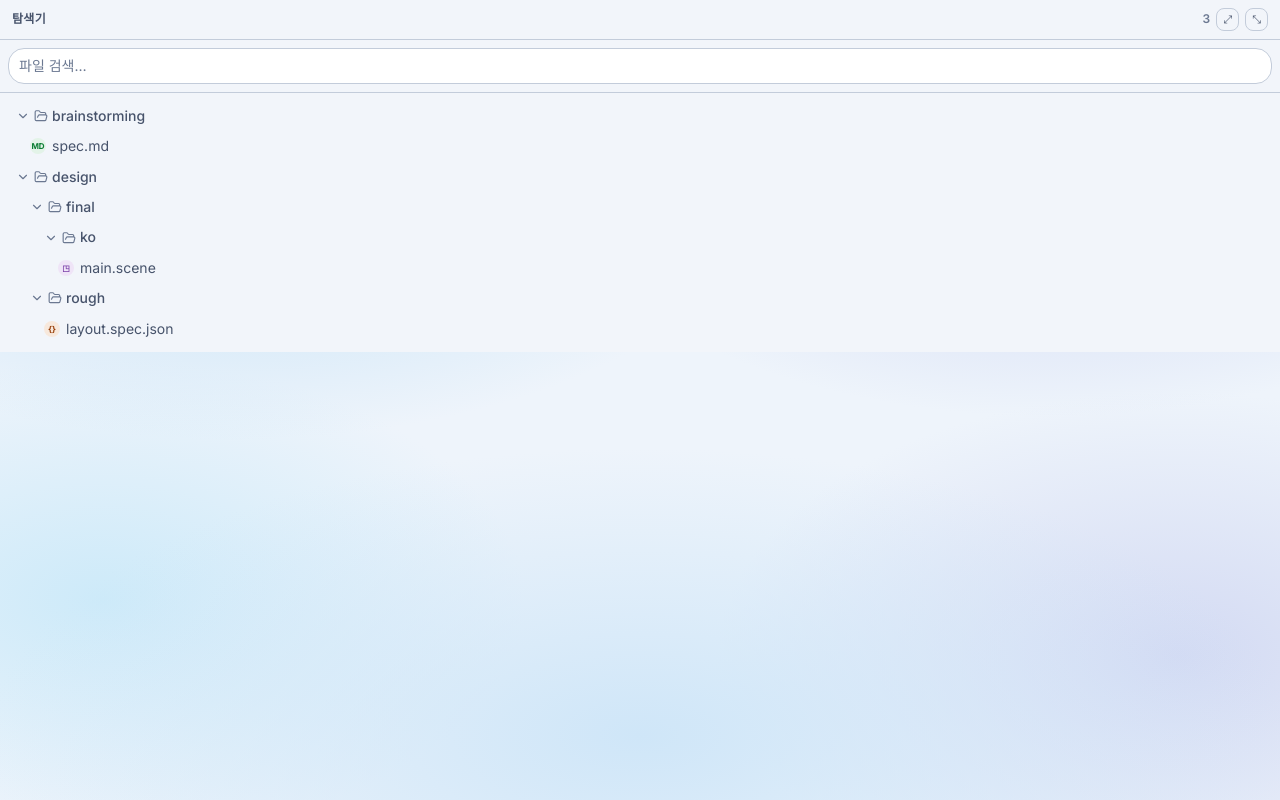
it: FileTree 전체 펼치기/접기 › 전체 접기 → 최상위만 남고 자식 숨김, 전체 펼치기 → 다시 노출
Expected: the list item with test id "file-spec.md" is shown, [8,131,1272,162]
Click the button named "전체 접기": (1257, 19) [1245,8,1268,30]
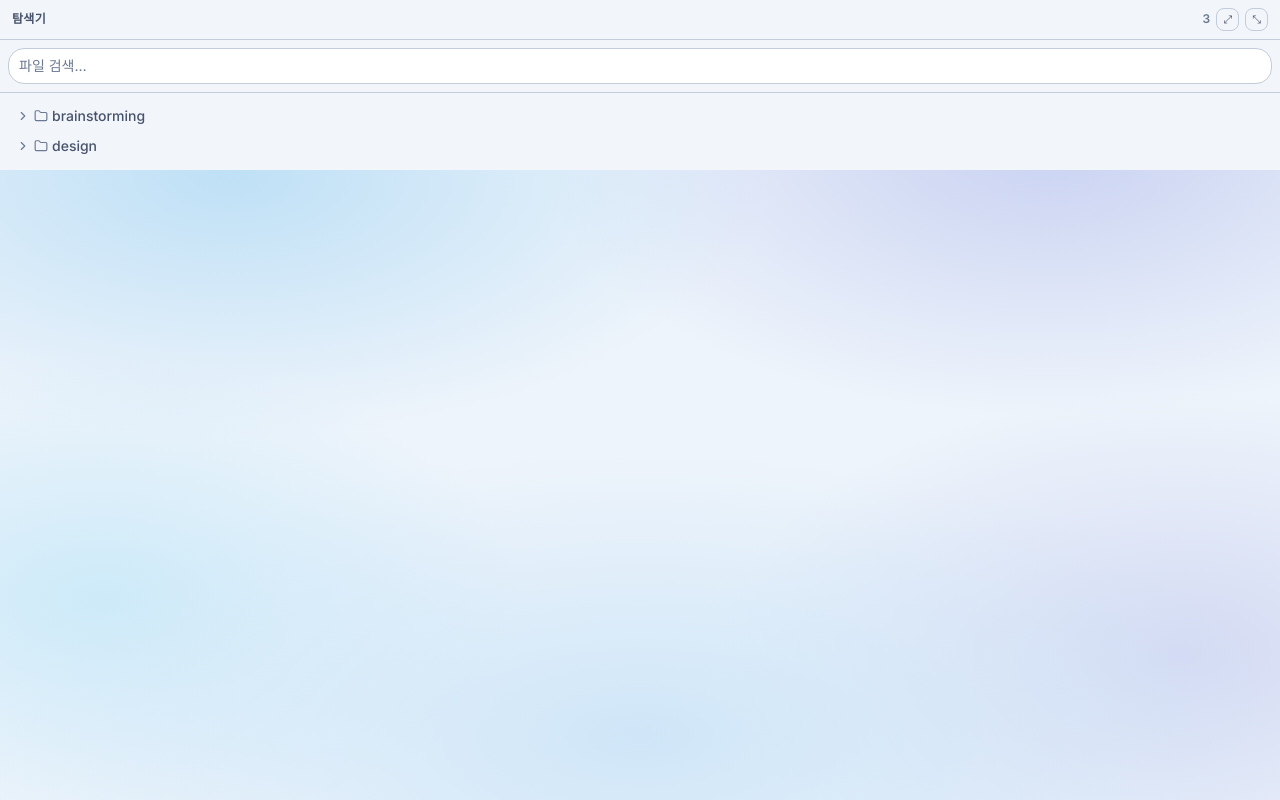
Click the button named "전체 펼치기": (1228, 19) [1216,8,1239,30]
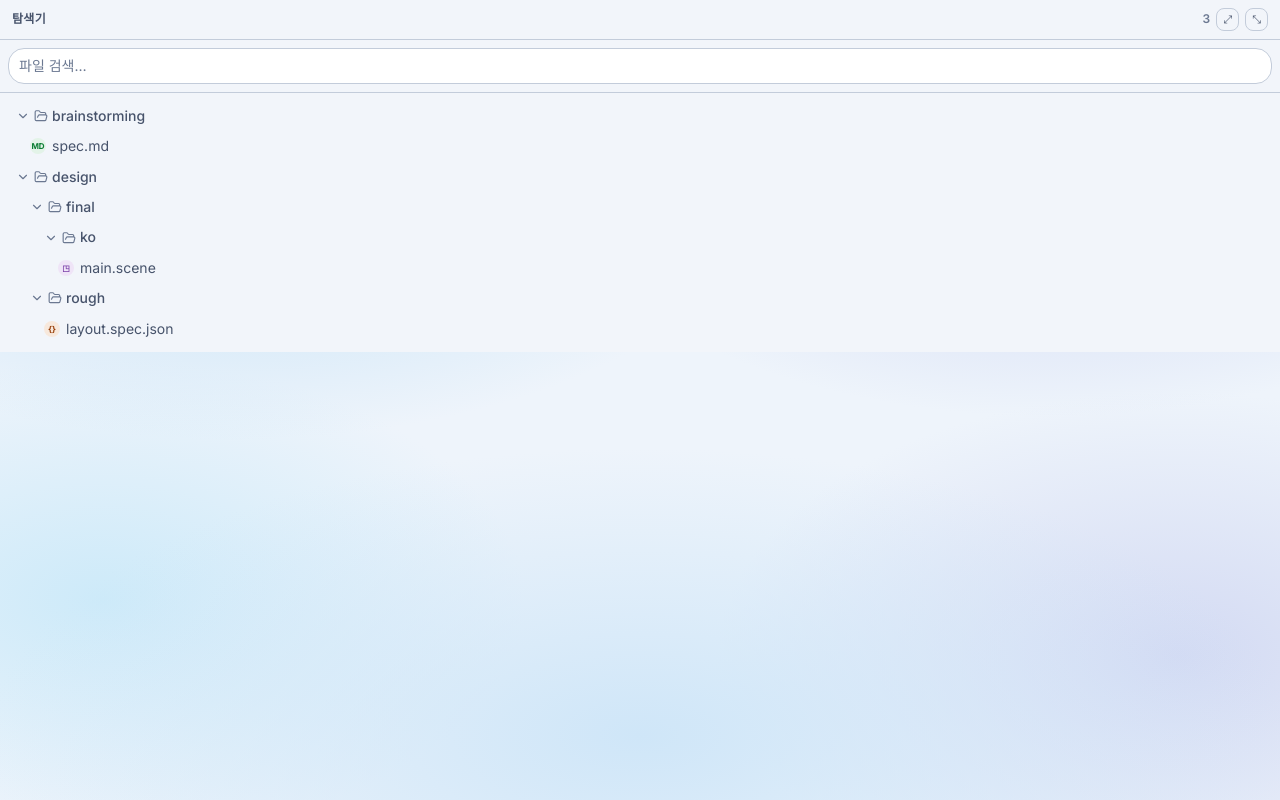
Now the list item with test id "file-spec.md" is shown, box [8,131,1272,162]
